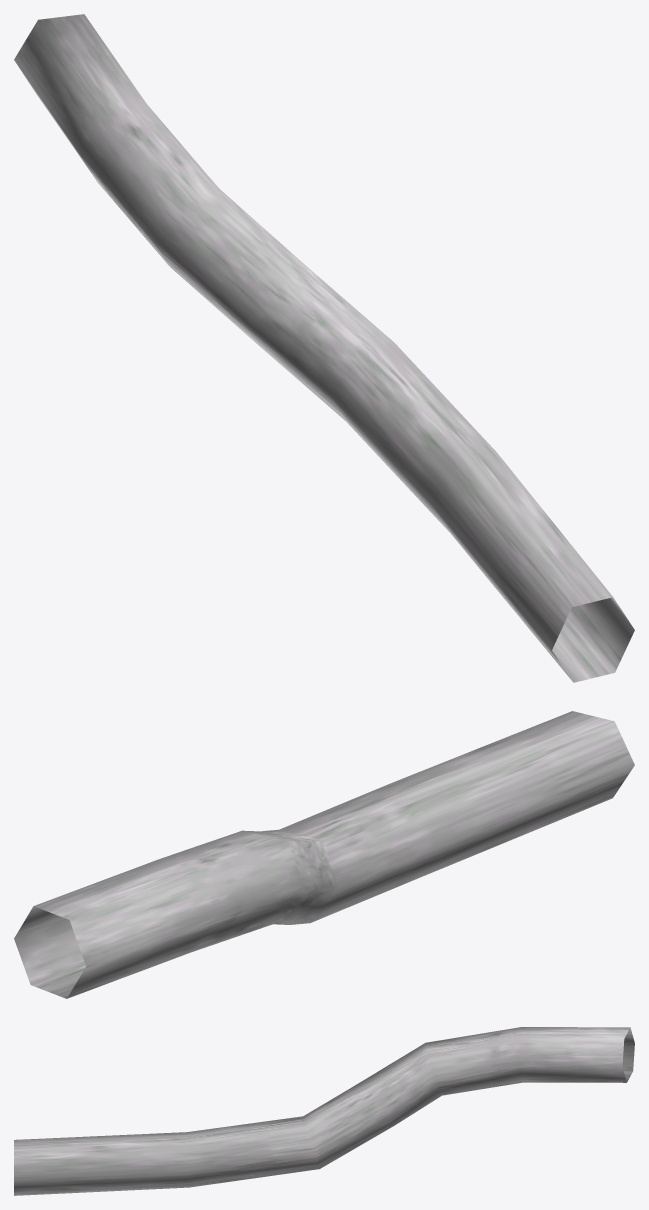
Rendered from cable_accessory_power_strip_cable.dae.
3 views of the same model, one above another, from view 1: azimuth 30°, elevation 25°; view 2: azimuth 150°, elevation 25°; view 3: azimuth 270°, elevation 25° (orthographic). The views are drawn at different scales.
Parts seen in each view (by area): view 1: Mesh__2_; view 2: Mesh__2_; view 3: Mesh__2_.
Boxes of the visible parts, x1,y1,x2,y2 form: Mesh__2_: (14, 14, 634, 682); Mesh__2_: (14, 711, 634, 998); Mesh__2_: (14, 1027, 634, 1195).
Bounding box in the file's own units: 3.08 × 5.23 × 18.79.
